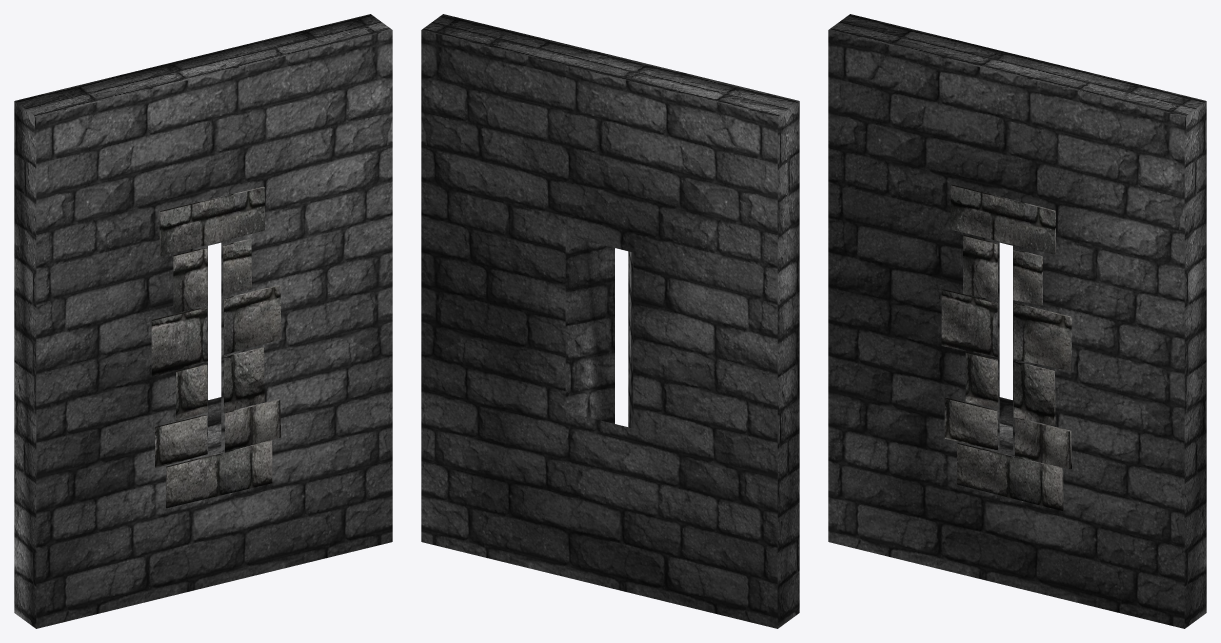
File: stone arrowslit .glb
3 views of the same model, side by side, from view 1: azimuth 30°, elevation 25°; view 2: azimuth 150°, elevation 25°; view 3: azimuth 330°, elevation 25° (orthographic).
Parts seen in each view (by area): view 1: Wall, Arrow Loop; view 2: Wall, Arrow Loop; view 3: Wall, Arrow Loop.
Part boxes in pixels (bbox=[...]): Wall, Arrow Loop: bbox=[14, 14, 392, 628]; Wall, Arrow Loop: bbox=[421, 14, 799, 628]; Wall, Arrow Loop: bbox=[828, 14, 1206, 628].
Bounding box in the file's own units: 2 × 2.74 × 0.225.
2 materials, 2 textured.
